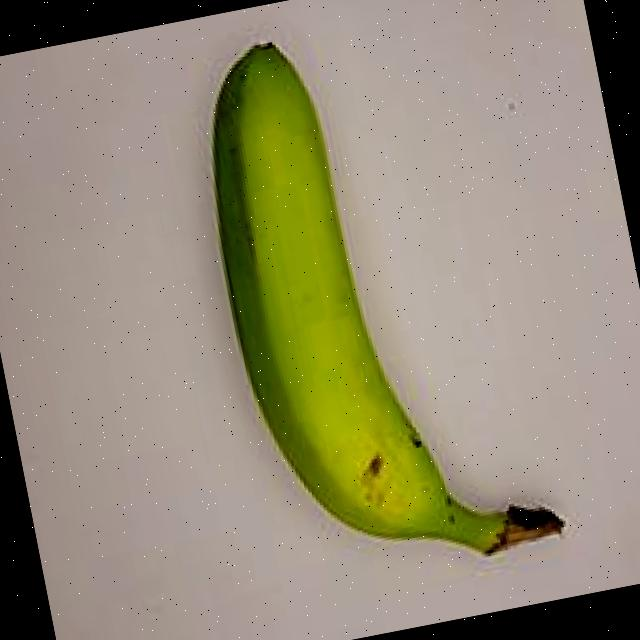Unripe: (145, 0, 597, 631)
